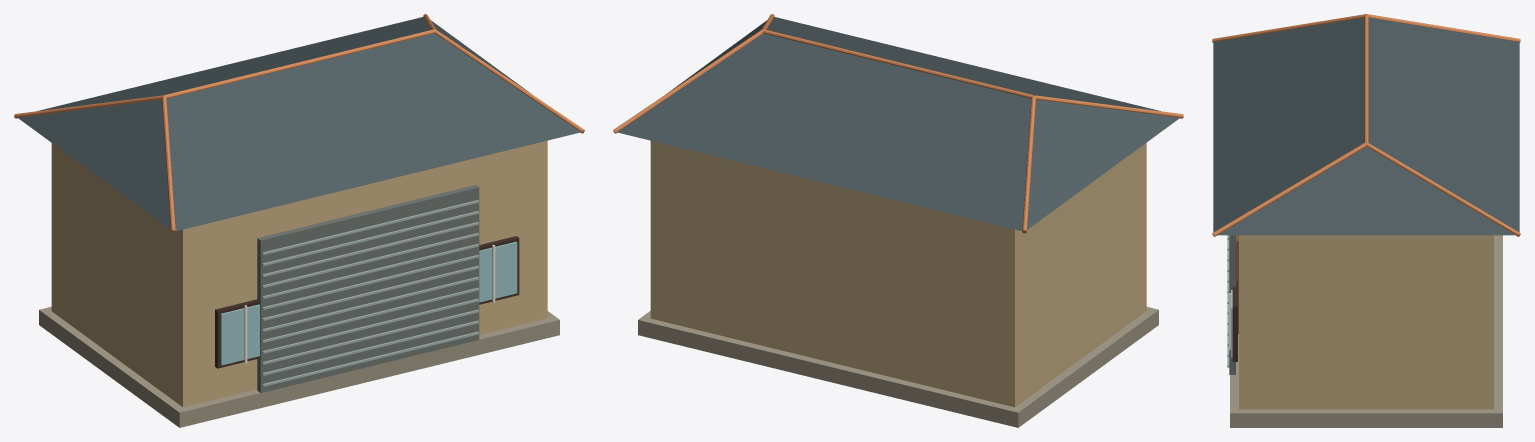
Rendered from 007_shuttered_godown.glb.
3 views of the same model, side by side, from view 1: azimuth 30°, elevation 25°; view 2: azimuth 150°, elevation 25°; view 3: azimuth 270°, elevation 25° (orthographic). The views are drawn at different scales.
Parts seen in each view (by area): view 1: Shuttered godown; view 2: Shuttered godown; view 3: Shuttered godown.
Boxes of the visible parts, bbox=[...] form: Shuttered godown: bbox=[14, 14, 584, 427]; Shuttered godown: bbox=[613, 14, 1183, 427]; Shuttered godown: bbox=[1212, 14, 1520, 427].
Size of the model in its own units: 9.08 by 5.61 by 6.05.
